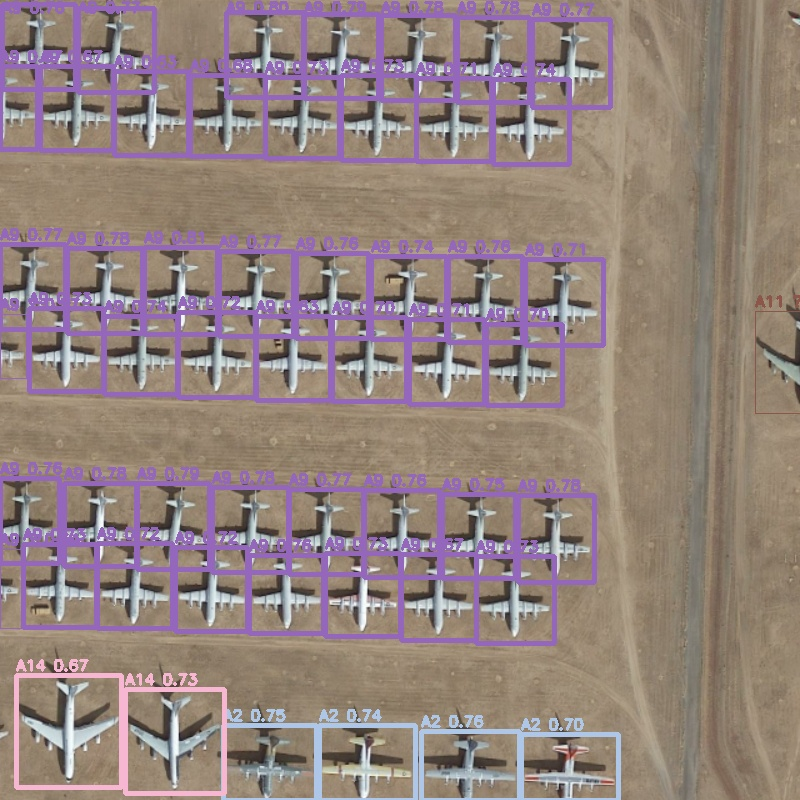A11: (755, 311, 800, 413)
A14: (16, 675, 121, 787), (125, 689, 224, 793)
A2: (319, 725, 415, 800), (223, 725, 316, 800), (421, 731, 519, 800), (521, 734, 618, 800)
A9: (532, 19, 610, 107), (476, 556, 554, 643), (525, 259, 603, 345), (518, 495, 594, 582), (226, 12, 303, 97), (178, 312, 255, 397), (364, 490, 439, 577), (212, 487, 288, 572), (493, 79, 569, 164), (401, 554, 476, 640), (78, 8, 154, 92), (67, 248, 142, 333), (341, 75, 416, 160), (97, 543, 172, 628), (409, 319, 484, 404), (448, 256, 522, 342), (144, 247, 217, 334), (381, 15, 455, 100), (289, 489, 363, 574), (219, 251, 293, 336), (371, 256, 446, 339), (325, 553, 400, 636), (416, 78, 491, 161), (304, 14, 378, 98), (332, 317, 406, 401), (256, 316, 330, 400), (114, 71, 188, 155), (2, 4, 75, 89), (137, 483, 209, 569), (486, 324, 562, 405), (29, 308, 103, 391), (442, 494, 515, 578), (40, 66, 113, 150), (457, 17, 529, 102), (296, 253, 368, 338), (190, 75, 265, 156), (23, 544, 96, 627), (175, 547, 247, 631), (265, 77, 339, 158), (64, 483, 136, 566), (249, 555, 323, 633), (104, 316, 177, 394), (0, 244, 65, 329), (0, 478, 59, 563), (0, 66, 37, 149), (0, 314, 26, 378), (0, 549, 21, 628)
